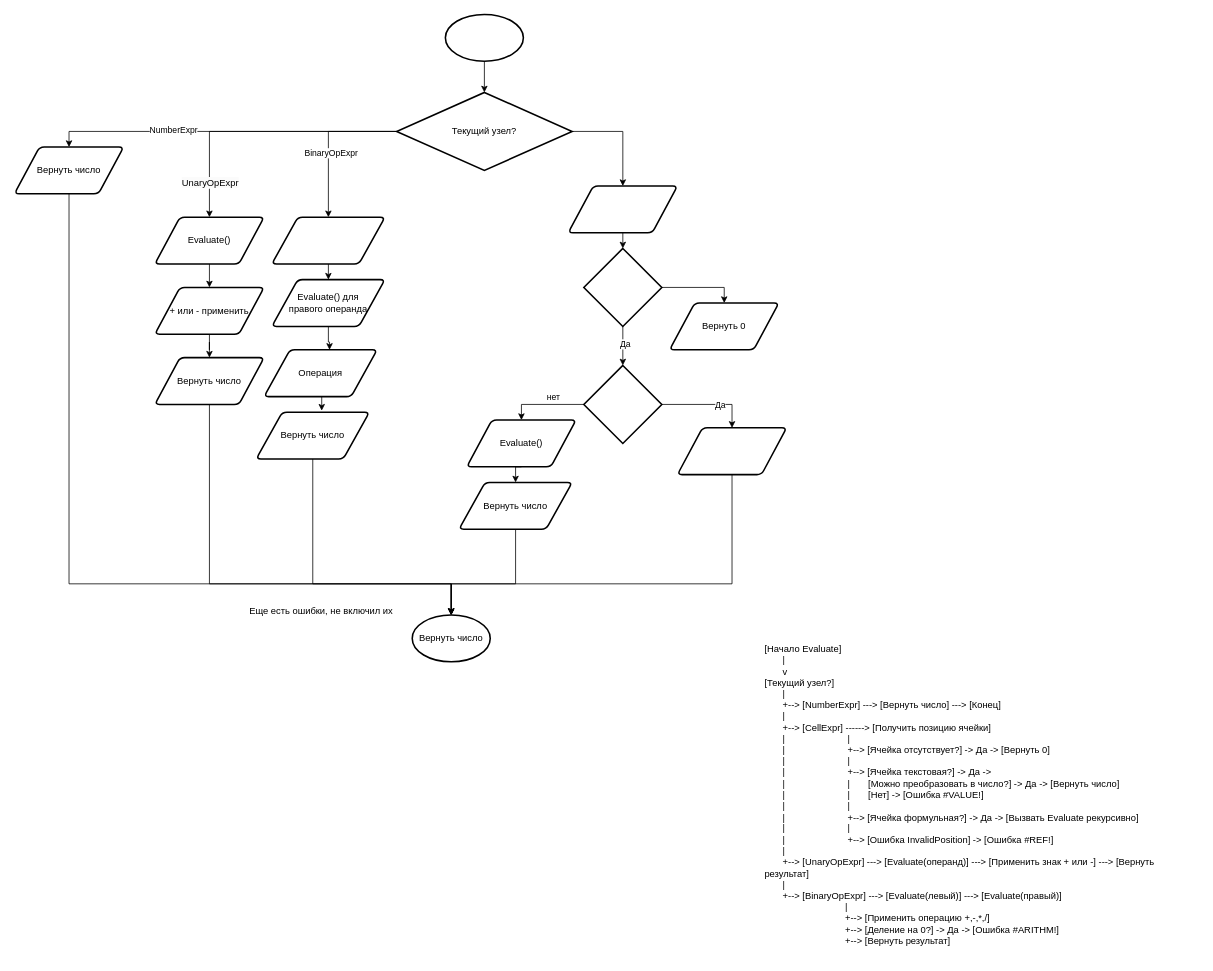
The diagram is 1213 pixels wide and 971 high, and some of its shapes have lost their labels. The shapes that lost their labels are listed below. From the top down, each one's centre as x and y in pixels, then its label:
point 484,37: Evaluate
point 622,209: Получить позицию ячейки
point 328,240: Evaluate() для левого операнда
point 622,287: Ячейка существует?
point 622,404: Ячейка текстовая?
point 731,451: Вернуть ошибку
